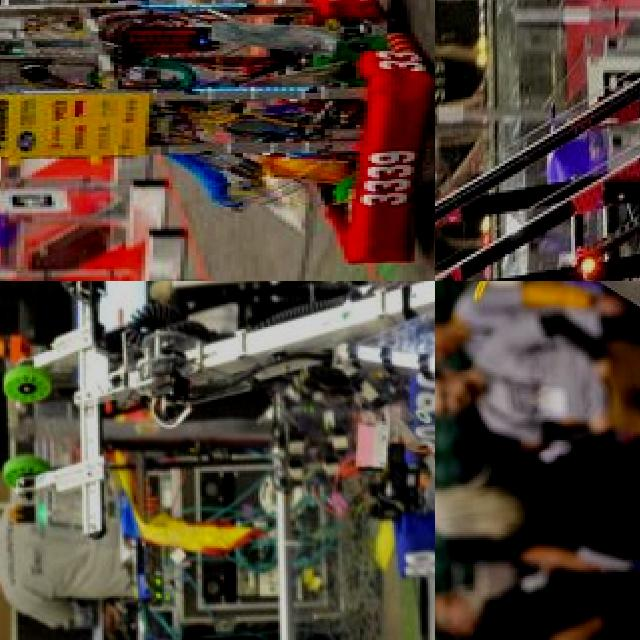FRC-Robots: (0, 281, 435, 583), (0, 0, 435, 267), (435, 281, 640, 605), (435, 0, 640, 281)
